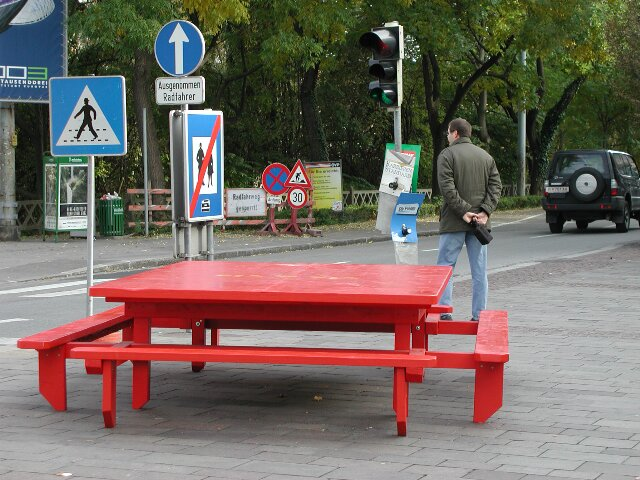person: (429, 114, 518, 330)
